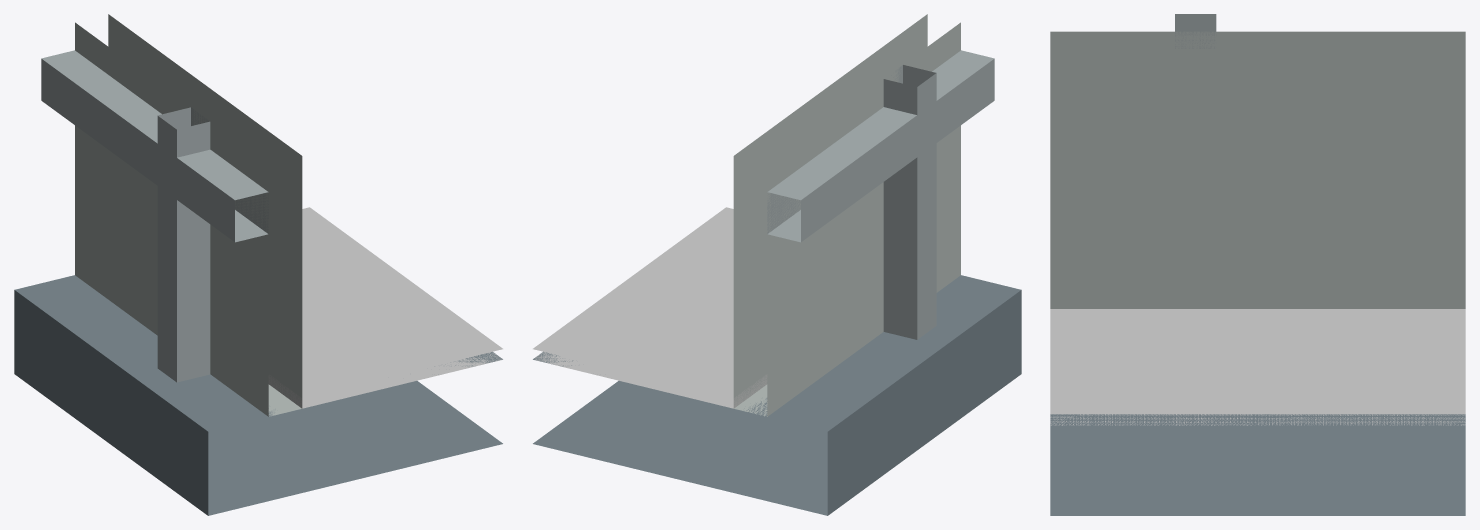
Rendered from cell_28.obj.
3 renders of one model, left to right at view 1: azimuth 30°, elevation 25°; view 2: azimuth 150°, elevation 25°; view 3: azimuth 270°, elevation 25°, orthographic. The views are drawn at different scales.
Size of the model in its own units: 0.88 by 0.96 by 1.
